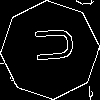U: (25, 25, 74, 65)
